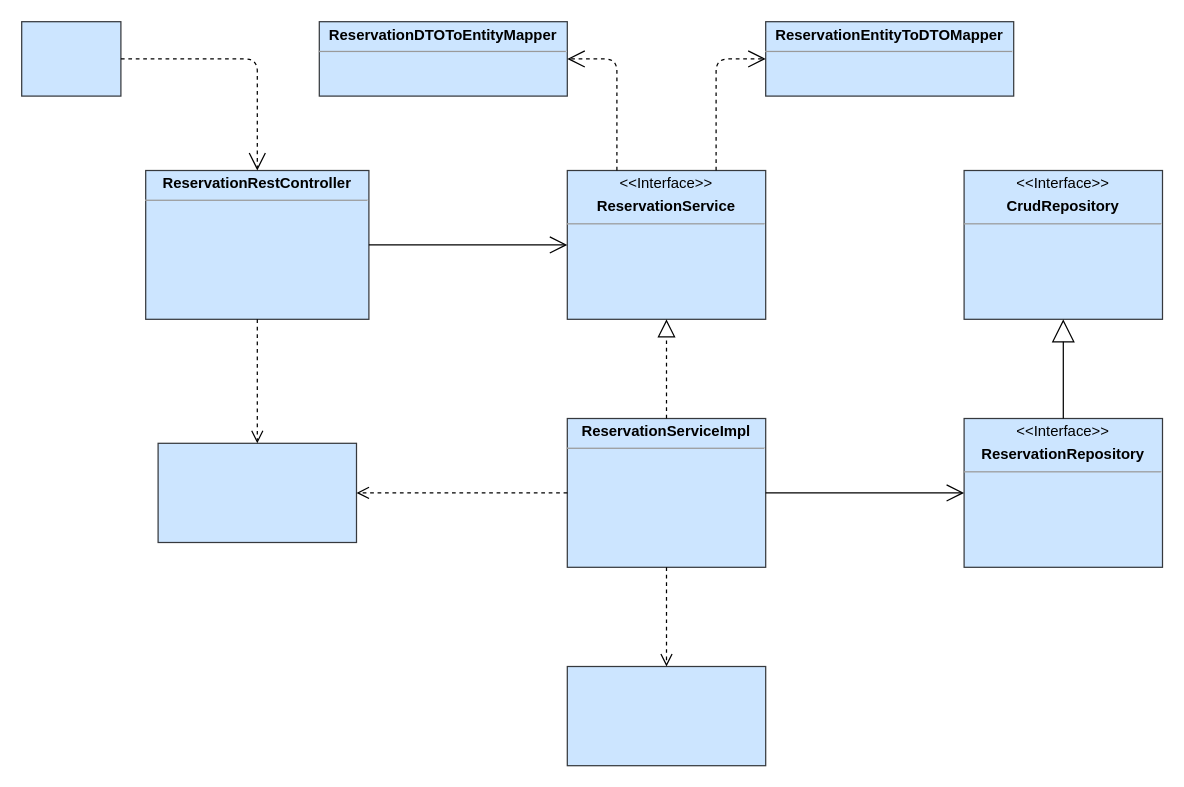
This 1184x787 diagram has some shape labels left out. Each missing label, with the centre of its shape:
"Cliente" belongs at pixel 70 58.
"Reservation" belongs at pixel 666 715.
"ReservationDTO" belongs at pixel 256 492.
